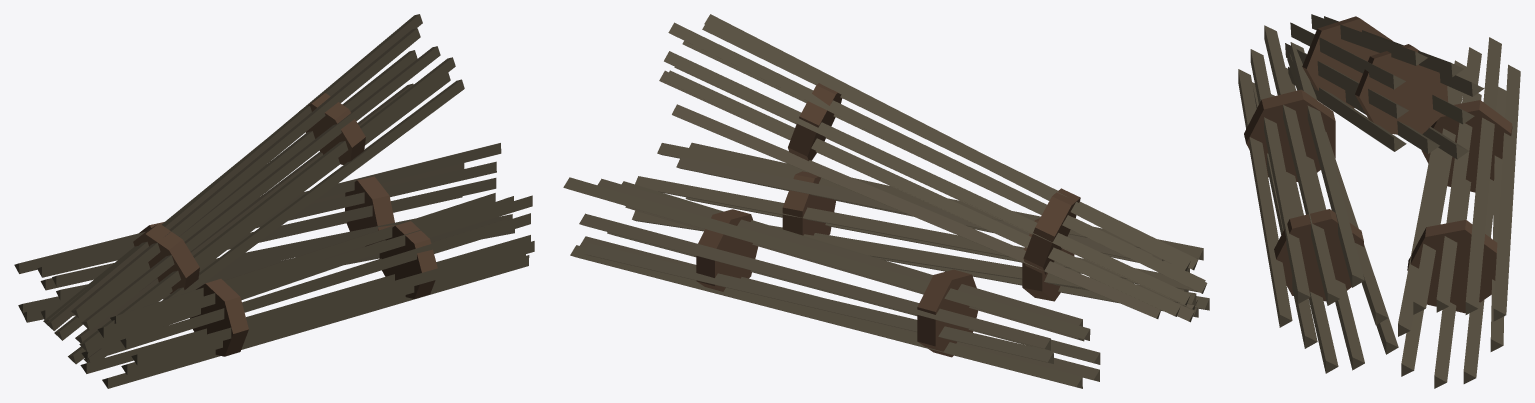
File: Brushwood.fbx
3 renders of one model, left to right at view 1: azimuth 30°, elevation 25°; view 2: azimuth 150°, elevation 25°; view 3: azimuth 270°, elevation 25°, orthographic. The views are drawn at different scales.
Parts seen in each view (by area): view 1: Brushwood; view 2: Brushwood; view 3: Brushwood.
Part boxes in pixels (bbox=[...]): Brushwood: bbox=[14, 14, 534, 388]; Brushwood: bbox=[563, 14, 1209, 388]; Brushwood: bbox=[1238, 14, 1520, 388].
Size of the model in its own units: 1.51 by 0.6491 by 0.5977.
